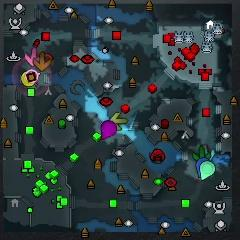p1: (196, 158, 208, 178)
p2: (199, 161, 216, 182)
p3: (101, 120, 117, 140)
p4: (21, 71, 41, 86)
x1: (25, 48, 42, 66)
x2: (110, 112, 127, 129)
x3: (203, 146, 215, 160)
x4: (193, 146, 211, 161)
x5: (34, 52, 51, 71)
